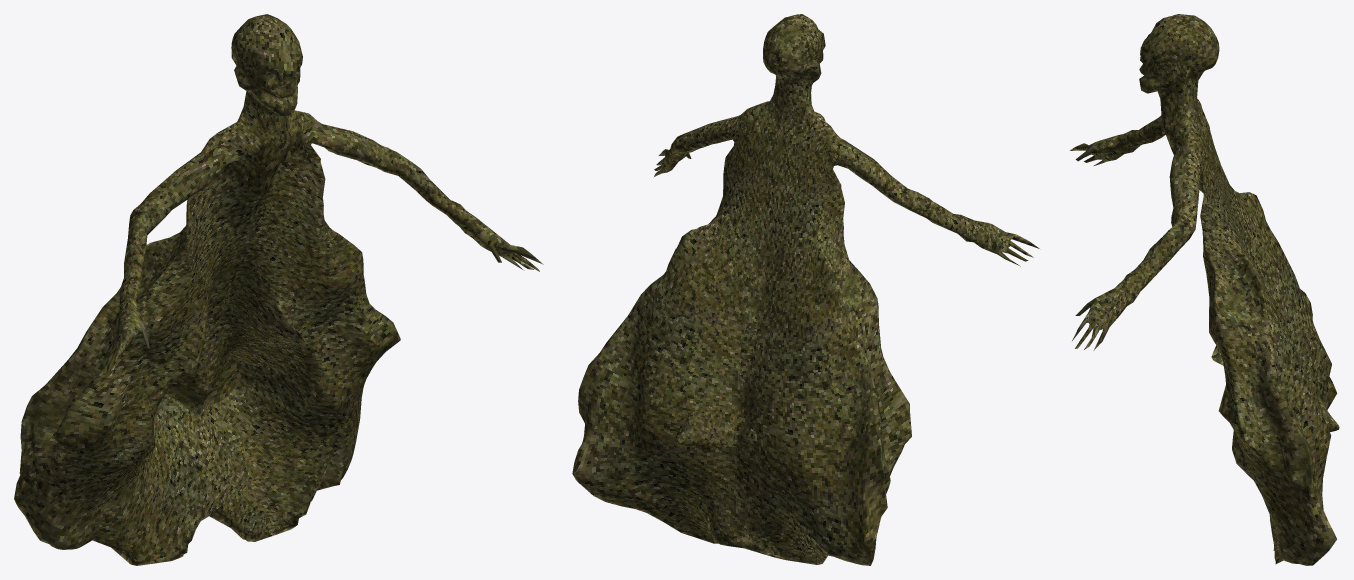
File: MonsterStandInTemp.FBX
The picture shows the model from 3 angles, left to right: view 1: azimuth 30°, elevation 25°; view 2: azimuth 150°, elevation 25°; view 3: azimuth 270°, elevation 25°; orthographic projection. The views are drawn at different scales.
Visible parts, largest first — view 1: MonsterStandIn; view 2: MonsterStandIn; view 3: MonsterStandIn.
Boxes of the visible parts, left/top/right/bottom form: MonsterStandIn: left=14, top=14, right=543, bottom=565; MonsterStandIn: left=572, top=14, right=1039, bottom=565; MonsterStandIn: left=1070, top=14, right=1339, bottom=565.
Size of the model in its own units: 2.36 by 1.4 by 2.98.
Materials: 1 (1 with a texture image).
